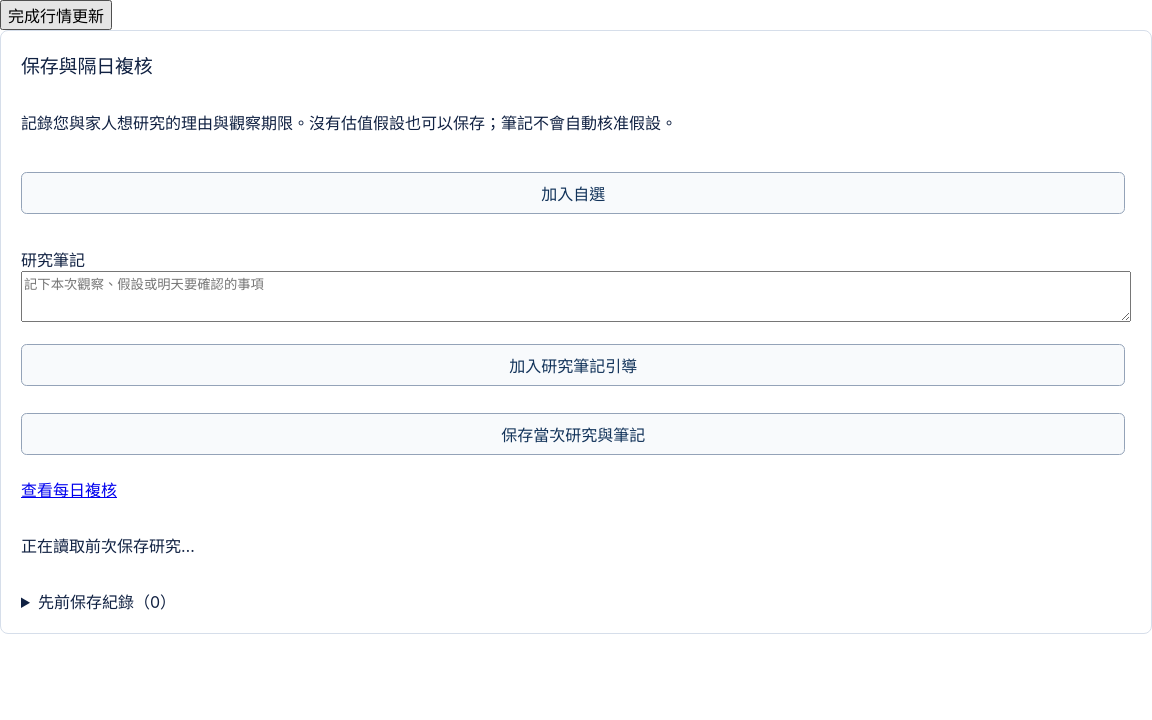
Test: research journal after session recovery and navigation › explains a rejected save, keeps the note and requires another click using the same key
Step 1. Type "請保留這份筆記" into the text box labelled "研究筆記" → x=576, y=297, box [21,271,1131,322]
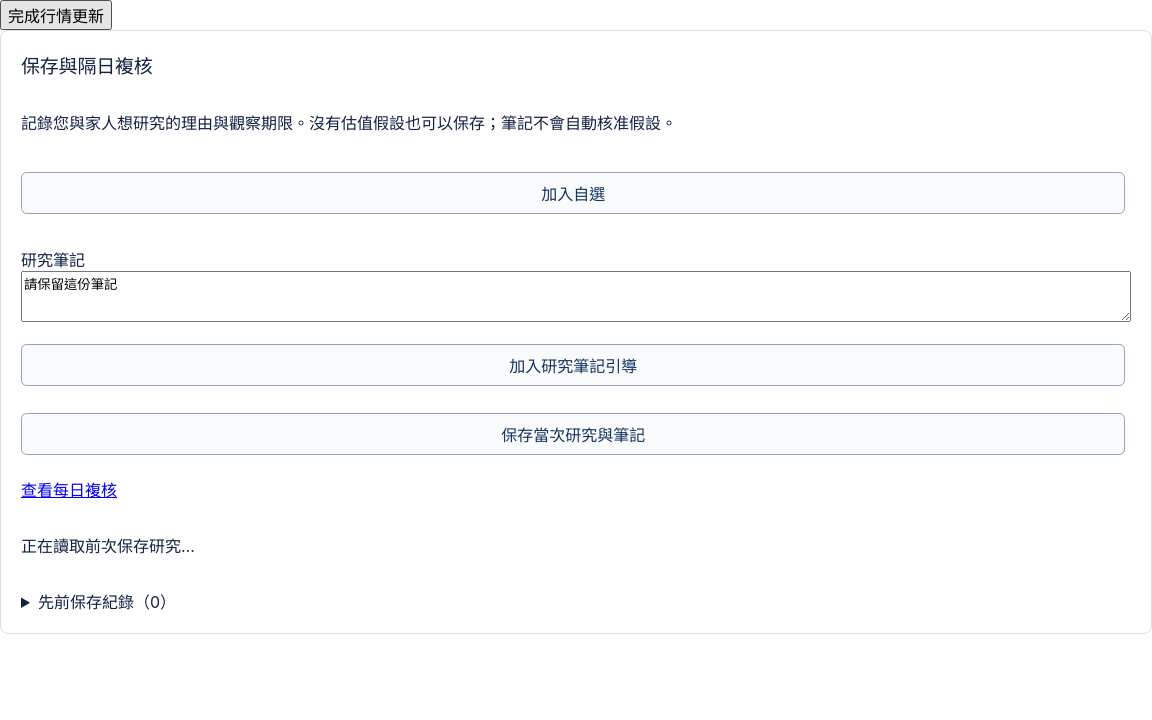
Step 2. Click the button "保存當次研究與筆記" → x=573, y=434, box [21,413,1125,455]
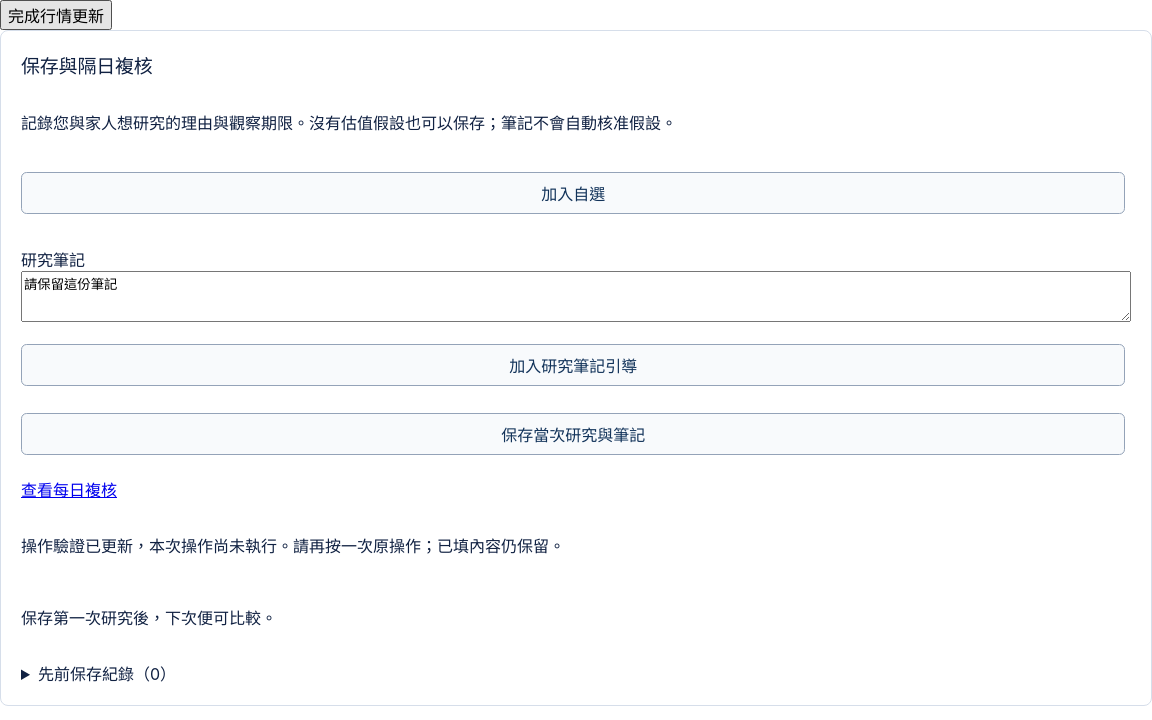
Expected: the text "已保存當次資料" is not shown
Expected: the text "操作驗證已更新，本次操作尚未執行。請再按一次原操作；已填內容仍保留。" is shown, [21,536,565,556]
Step 3. Click the button "保存當次研究與筆記" → x=573, y=434, box [21,413,1125,455]
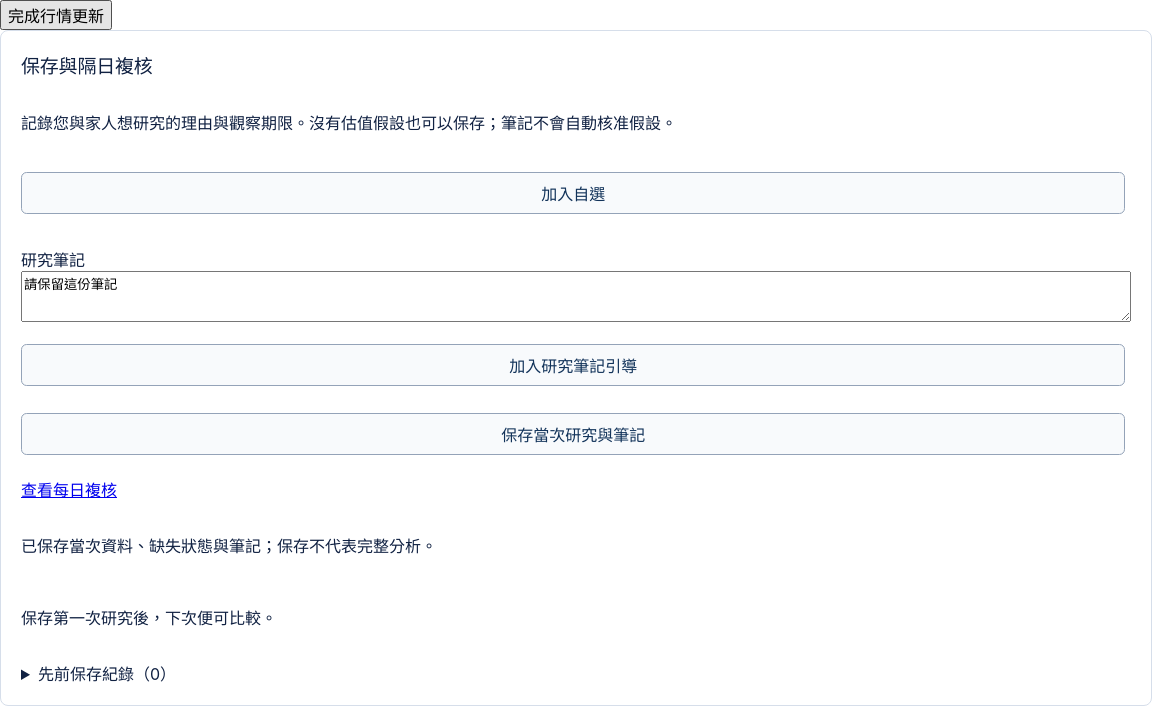
Expected: the text "已保存當次資料、缺失狀態與筆記；保存不代表完整分析。" is shown, [21,536,437,556]
